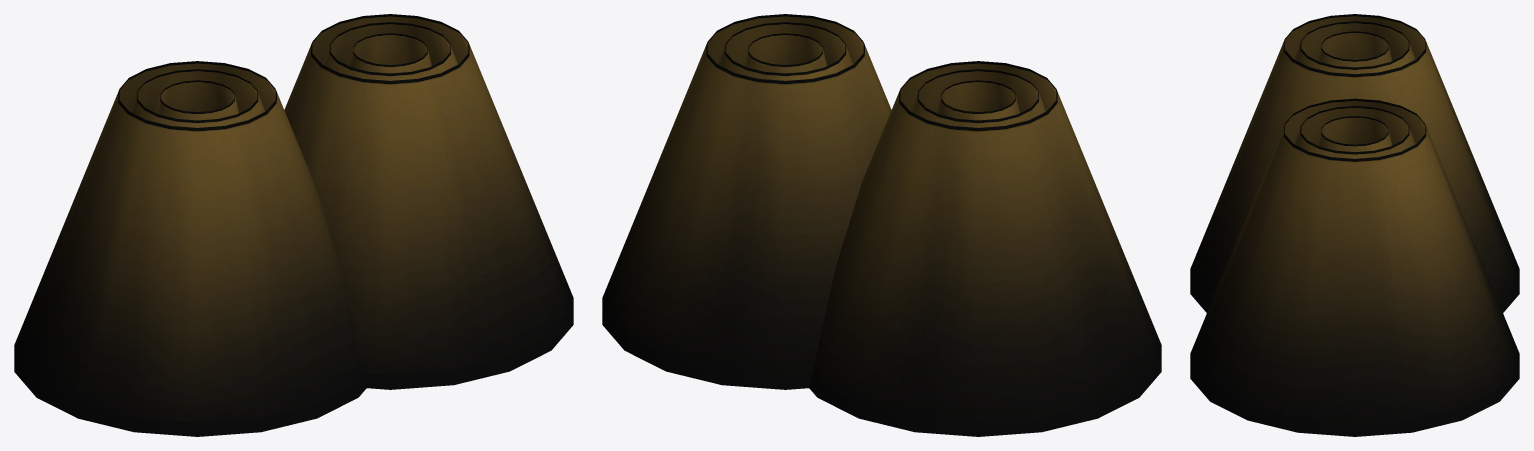
Rendered from Beam2.fbx.
3 views of the same model, side by side, from view 1: azimuth 30°, elevation 25°; view 2: azimuth 150°, elevation 25°; view 3: azimuth 270°, elevation 25° (orthographic). The views are drawn at different scales.
Parts seen in each view (by area): view 1: m_sk_the_pass_lightbeams_01; view 2: m_sk_the_pass_lightbeams_01; view 3: m_sk_the_pass_lightbeams_01.
Boxes of the visible parts, x1=… form: m_sk_the_pass_lightbeams_01: x1=14, y1=14, x2=573, y2=436; m_sk_the_pass_lightbeams_01: x1=602, y1=14, x2=1161, y2=436; m_sk_the_pass_lightbeams_01: x1=1190, y1=14, x2=1519, y2=436.
Bounding box in the file's own units: 259 × 127 × 160.
Materials: 1 (1 with a texture image).
